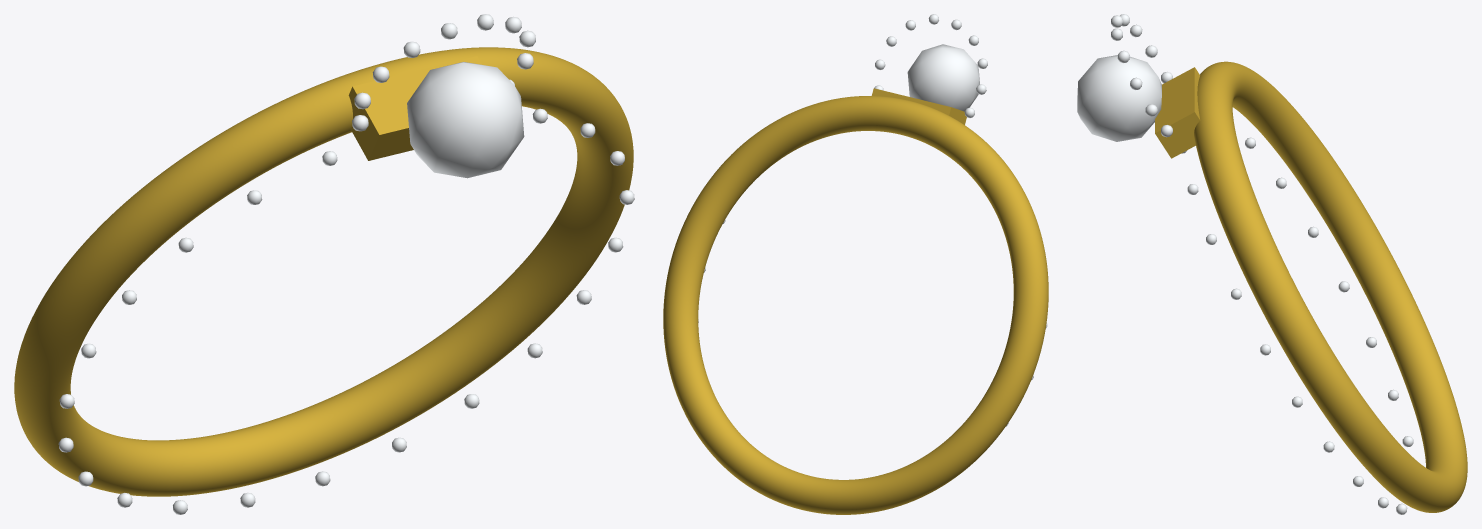
Rendered from eternal-solitaire.glb.
3 views of the same model, side by side, from view 1: azimuth 30°, elevation 25°; view 2: azimuth 150°, elevation 25°; view 3: azimuth 270°, elevation 25° (orthographic). The views are drawn at different scales.
Visible parts, largest first — view 1: gold_band, hero_gemstone, gold_setting; view 2: gold_band, hero_gemstone, gold_setting; view 3: gold_band, hero_gemstone, gold_setting.
Part boxes in pixels (x1,y1,x2,y2): gold_band: (14,47,633,496); hero_gemstone: (407,62,524,178); gold_setting: (348,56,481,160); gold_band: (663,96,1048,514); hero_gemstone: (907,44,979,111); gold_setting: (871,88,966,124); gold_band: (1194,61,1467,512); hero_gemstone: (1077,55,1161,141); gold_setting: (1155,67,1200,158).
Bounding box in the file's own units: 2.17 × 2.22 × 1.68.
